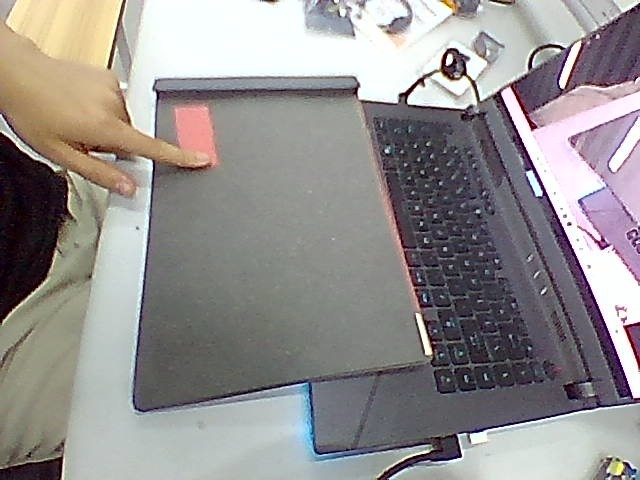card: (173, 104, 218, 165)
